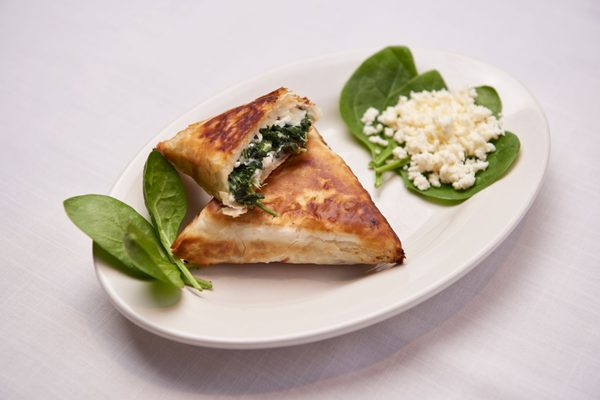curry: (9, 17, 568, 397)
sandwich: (150, 84, 405, 266)
